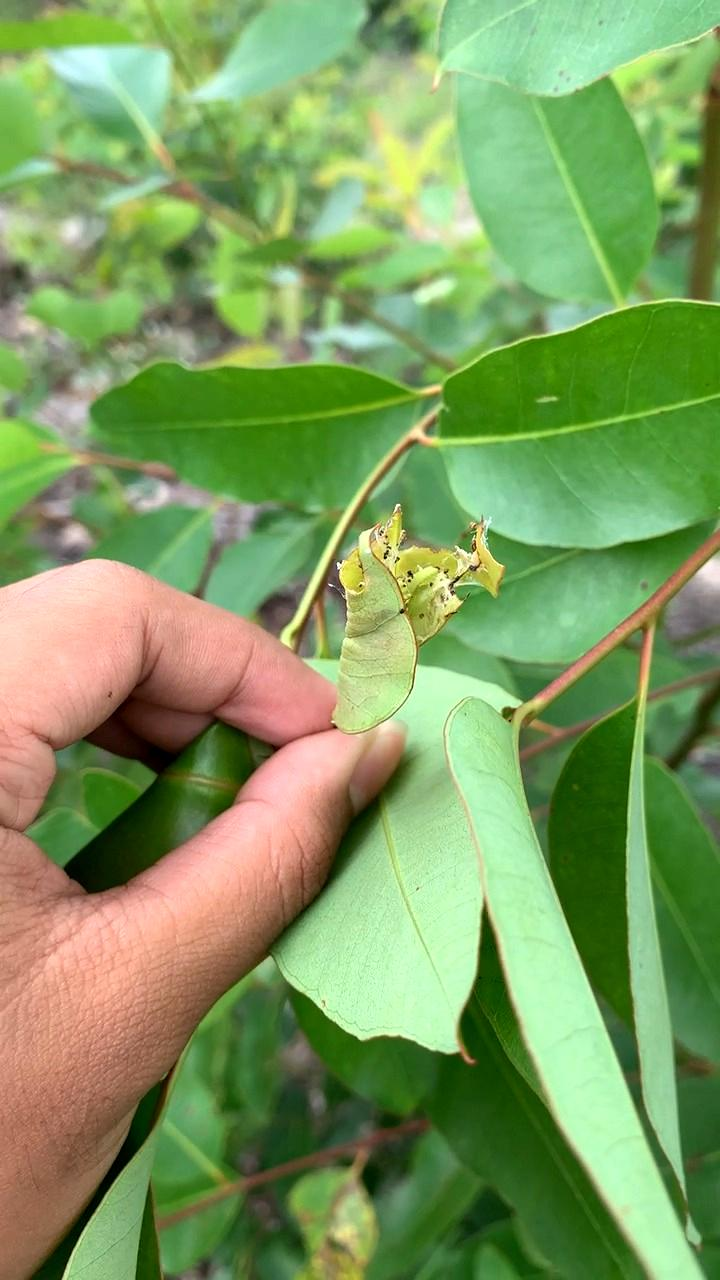Leaf Roller - Leaf: (309, 496, 523, 738)
